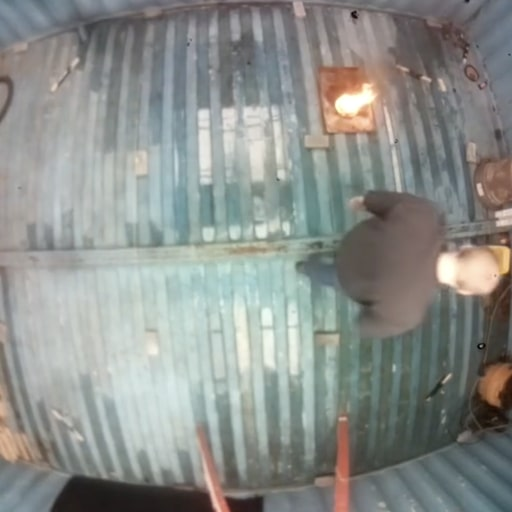Fire: (332, 82, 377, 117)
